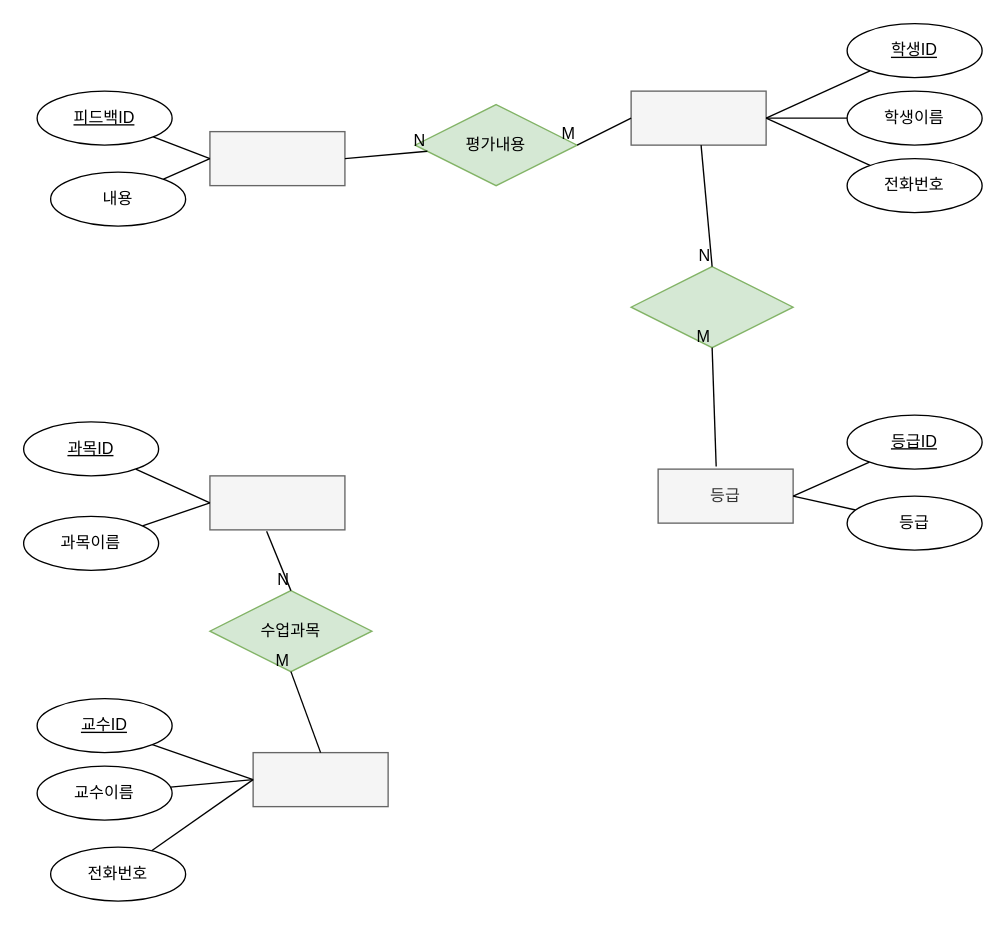
Image size: 1006x925. Some labels were removed from this diagram. The shapes that lost their labels are listed below. From the top down, each one's box as (x1, y1, x2, y2) in pixels, then its label:
(630, 90, 766, 145): 학생
(209, 130, 345, 186): 피드백
(630, 265, 793, 348): 점수
(209, 475, 345, 530): 과목
(252, 751, 388, 807): 교수
